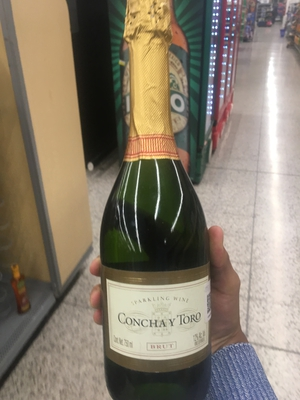brut: (99, 7, 212, 400)
